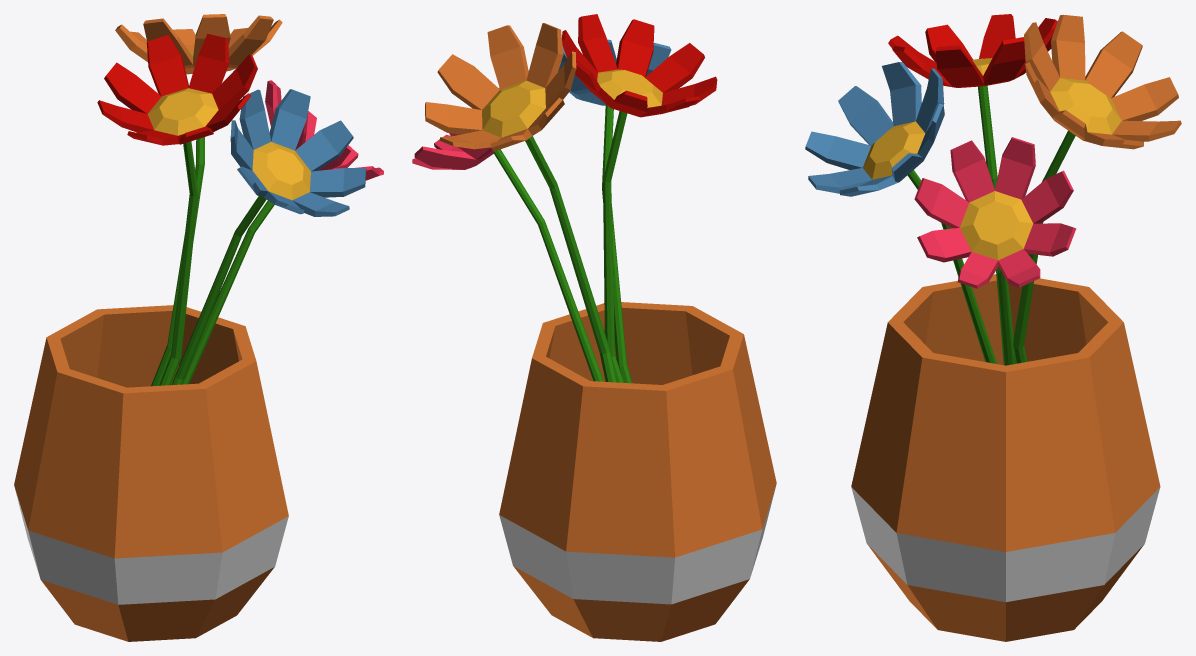
The model's file is H_Flowers.fbx.
3 views of the same model, side by side, from view 1: azimuth 30°, elevation 25°; view 2: azimuth 150°, elevation 25°; view 3: azimuth 270°, elevation 25° (orthographic). The views are drawn at different scales.
Visible parts, largest first — view 1: H_Flowers; view 2: H_Flowers; view 3: H_Flowers.
Part boxes in pixels (x1,y1,x2,y2): H_Flowers: (14, 14, 383, 641); H_Flowers: (412, 14, 776, 641); H_Flowers: (805, 14, 1181, 641).
Bounding box in the file's own units: 149 × 132 × 237.
